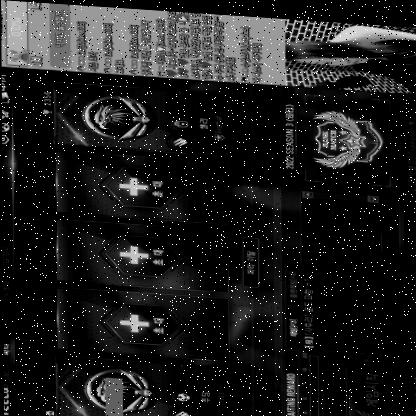streamer: (284, 27, 416, 88)
